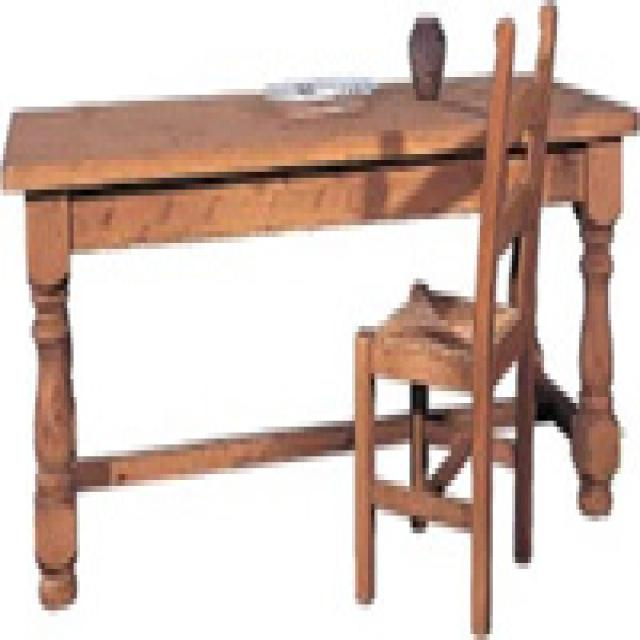table: (2, 68, 640, 612)
